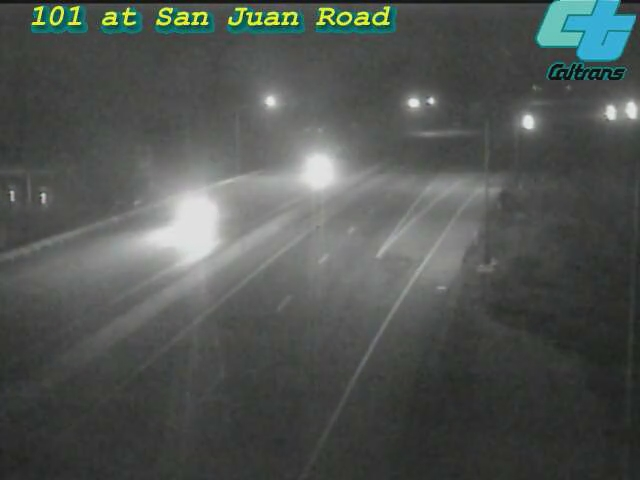vehicle: (162, 170, 242, 250), (276, 127, 356, 207), (503, 98, 553, 148), (586, 89, 636, 139), (600, 86, 640, 136)
